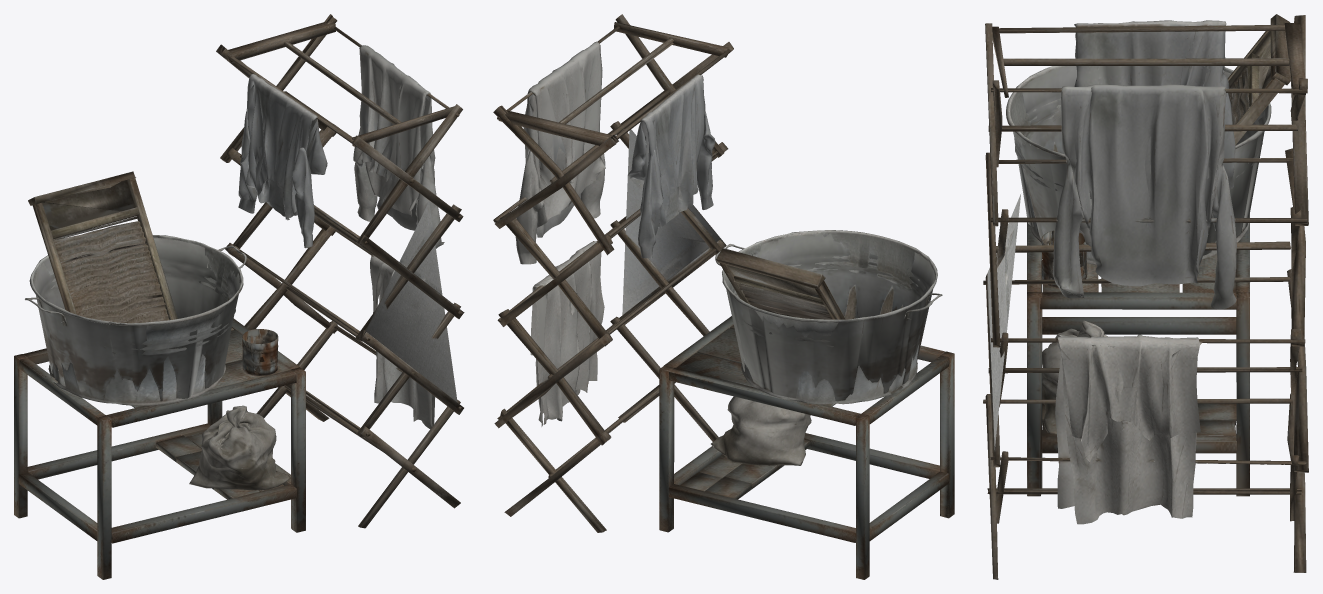
File: silo81_laundry.glb
3 renders of one model, left to right at view 1: azimuth 30°, elevation 25°; view 2: azimuth 150°, elevation 25°; view 3: azimuth 270°, elevation 25°, orthographic. The views are drawn at different scales.
Bounding box in the file's own units: 0.9551 × 0.9517 × 0.5596.
Materials: 1 (1 with a texture image).
